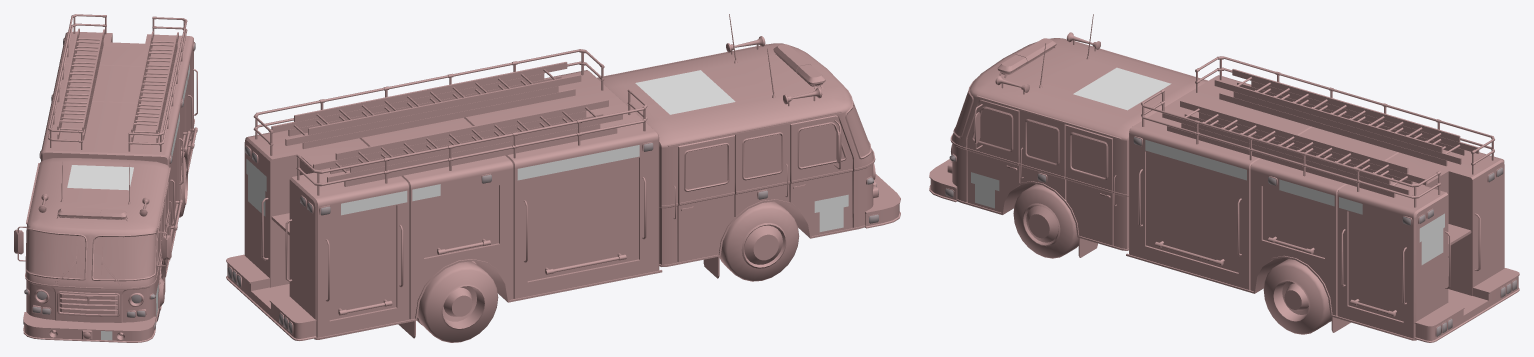
Rendered from veh-bomberos.glb.
3 renders of one model, left to right at view 1: azimuth 30°, elevation 25°; view 2: azimuth 150°, elevation 25°; view 3: azimuth 270°, elevation 25°, orthographic. The views are drawn at different scales.
Visible parts, largest first — view 1: fire_truck; view 2: fire_truck; view 3: fire_truck.
Part boxes in pixels (x1,y1,x2,y2): fire_truck: (14,14,197,342); fire_truck: (226,14,900,342); fire_truck: (929,14,1519,342).
Bounding box in the file's own units: 6.37 × 2.93 × 7.89.
